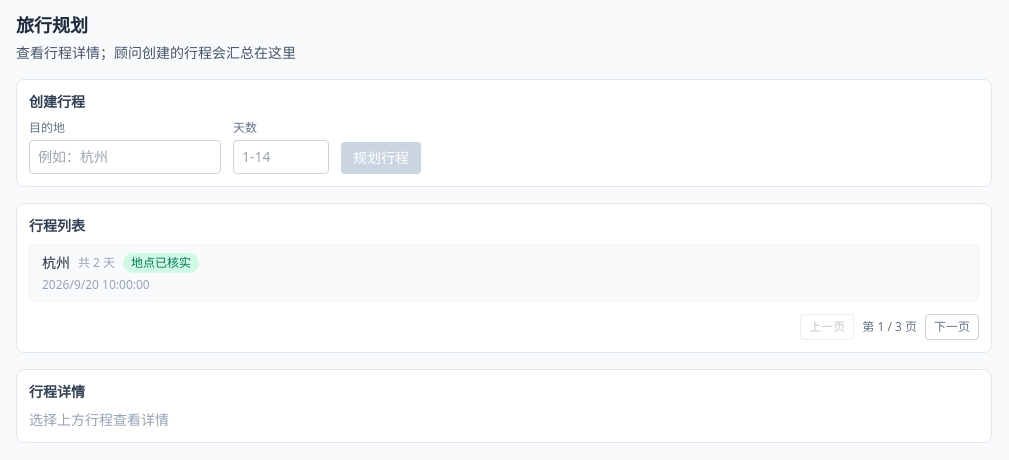
TripsPage › paginates the trip list
Click the button "下一页".
click(952, 327)  # box [925,314,979,340]
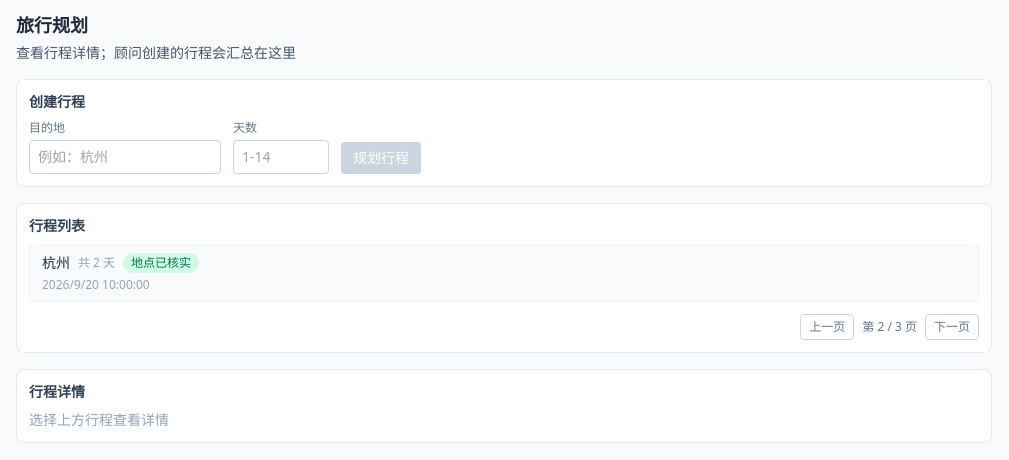
Result: the text "第 2 / 3 页" is shown at [862,319,917,335]
